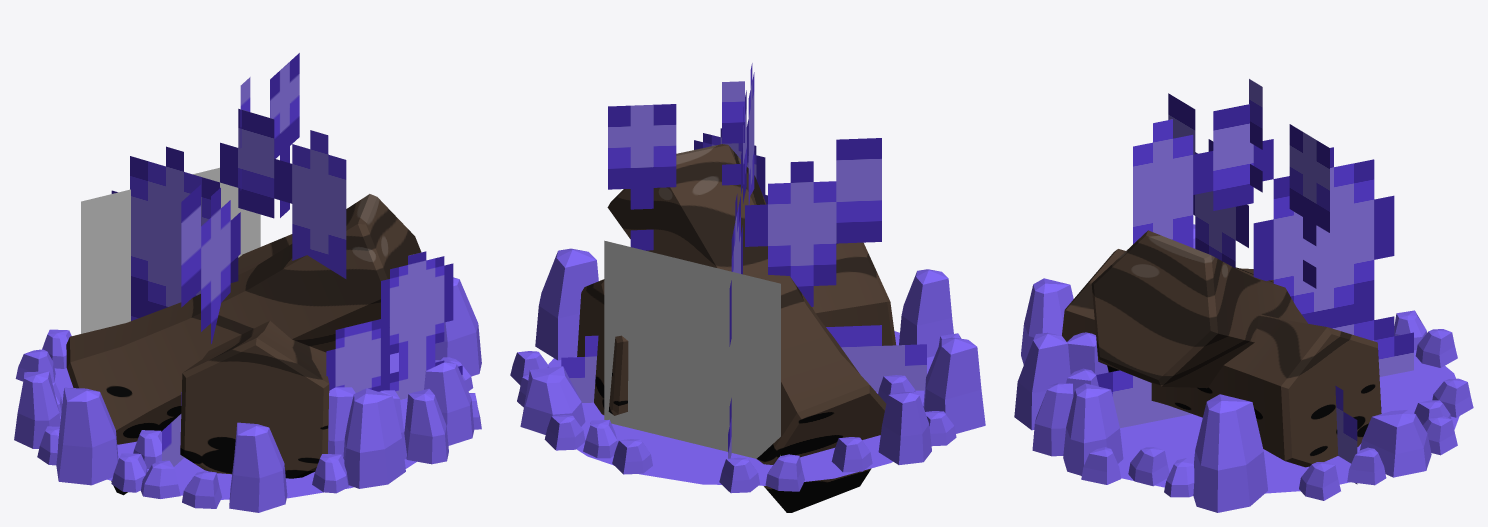
The model's file is Campfire1.fbx.
3 views of the same model, side by side, from view 1: azimuth 30°, elevation 25°; view 2: azimuth 150°, elevation 25°; view 3: azimuth 270°, elevation 25° (orthographic). The views are drawn at different scales.
Visible parts, largest first — view 1: logs1, rocks1, cf_flamesy_b2, cf_flamesy_a2, cf_flamesy_b1, cf_flamesy_a1, stone_circle1; view 2: logs1, cf_flamesy_a1, rocks1, cf_flamesy_b1, stone_circle1, cf_flamesy_b2, cf_flamesy_a2; view 3: logs1, rocks1, cf_flamesy_b2, cf_flamesy_b1, stone_circle1.
Part boxes in pixels (x1,y1,x2,y2): logs1: (66, 194, 421, 495); rocks1: (14, 277, 481, 512); cf_flamesy_b2: (111, 108, 346, 320); cf_flamesy_a2: (326, 251, 462, 399); cf_flamesy_b1: (162, 53, 299, 466); cf_flamesy_a1: (81, 167, 260, 333); stone_circle1: (54, 352, 416, 499); logs1: (577, 144, 895, 512); cf_flamesy_a1: (604, 240, 780, 458); rocks1: (510, 248, 985, 493); cf_flamesy_b1: (561, 81, 926, 402); stone_circle1: (548, 331, 934, 485); cf_flamesy_b2: (728, 63, 754, 458); cf_flamesy_a2: (694, 128, 767, 204); logs1: (1062, 230, 1381, 467); rocks1: (1014, 224, 1473, 512); cf_flamesy_b2: (1096, 104, 1413, 428); cf_flamesy_b1: (1168, 79, 1357, 484); stone_circle1: (1118, 350, 1459, 493).
Size of the model in its own units: 39.38 by 33.59 by 35.44.
